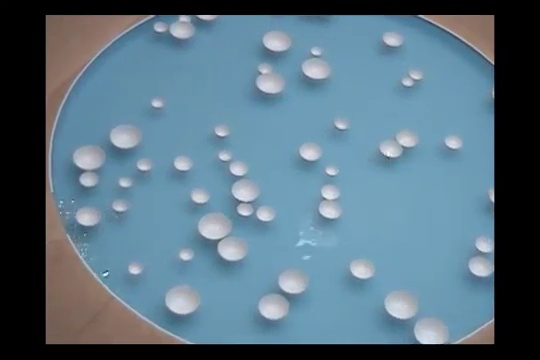bowl: (163, 283, 203, 315), (384, 288, 421, 320), (196, 211, 234, 240), (412, 318, 451, 346), (108, 123, 143, 151), (257, 293, 291, 320), (73, 144, 106, 171), (255, 70, 288, 96), (279, 268, 309, 296), (218, 236, 250, 262), (230, 177, 261, 203), (467, 253, 494, 282), (74, 204, 104, 229), (262, 29, 294, 52), (301, 56, 330, 81), (347, 258, 376, 281), (377, 138, 406, 160), (296, 141, 323, 163), (316, 200, 344, 221), (171, 20, 197, 41), (380, 28, 406, 48), (396, 129, 420, 149), (254, 204, 278, 223), (79, 171, 102, 189), (320, 184, 343, 202), (474, 235, 493, 256), (227, 159, 248, 177), (444, 134, 466, 151), (112, 197, 132, 215), (173, 154, 194, 171), (190, 187, 210, 204), (331, 117, 351, 133), (177, 246, 195, 263), (213, 123, 232, 139), (235, 202, 255, 217), (136, 157, 153, 173), (149, 96, 166, 111), (128, 261, 145, 276), (257, 61, 275, 75), (117, 176, 134, 190), (408, 68, 425, 82), (219, 148, 234, 163), (400, 76, 417, 89), (196, 14, 220, 23), (325, 164, 340, 178), (154, 20, 169, 33), (309, 45, 324, 57), (178, 15, 194, 23), (489, 189, 495, 206), (491, 85, 495, 100)
